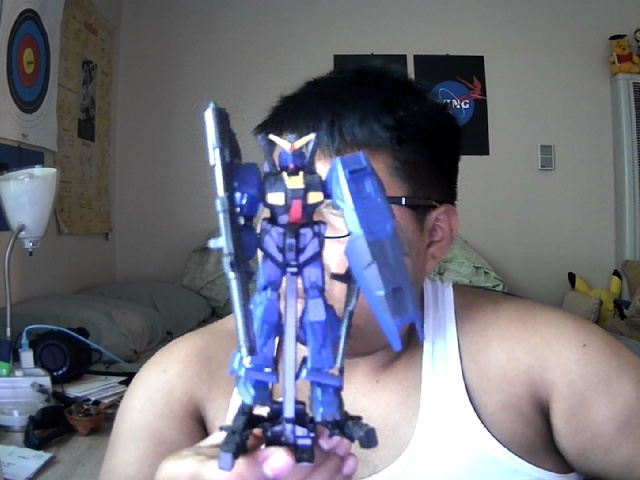Mk-11-Titans: (201, 102, 427, 424)
